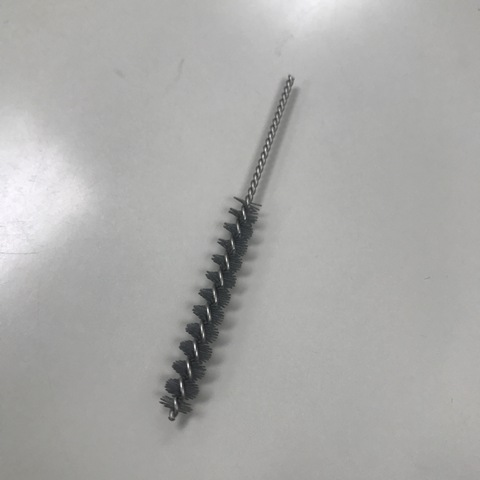Twist Brush-A: (158, 72, 295, 424)
